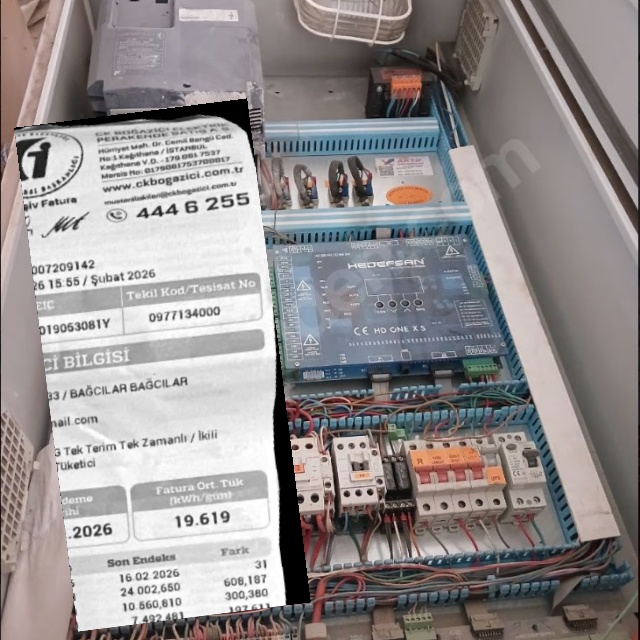electricity-bill: (14, 97, 310, 631)
